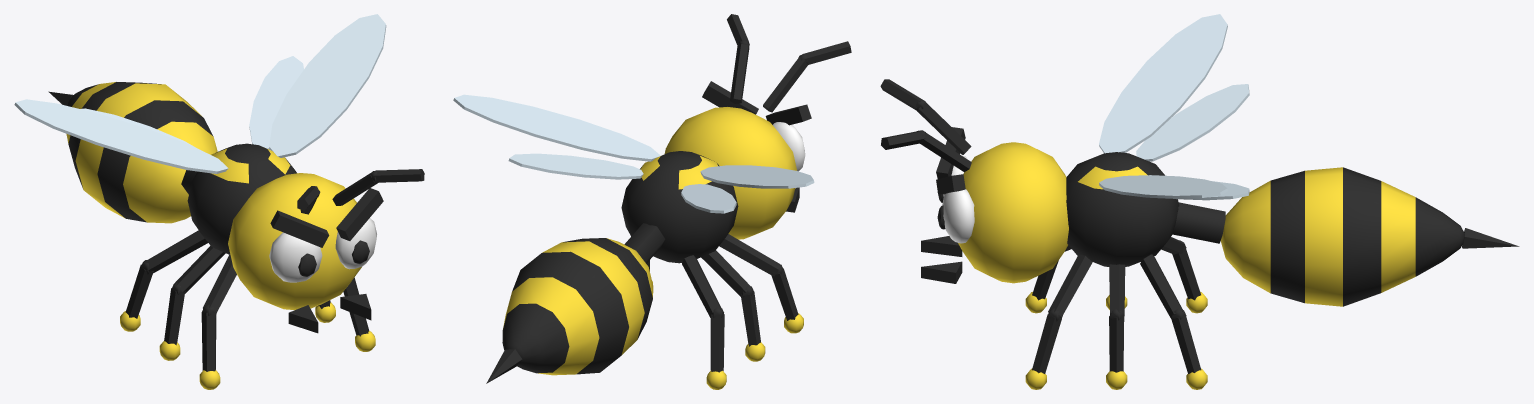
The model's file is wasp.fbx.
3 views of the same model, side by side, from view 1: azimuth 30°, elevation 25°; view 2: azimuth 150°, elevation 25°; view 3: azimuth 270°, elevation 25° (orthographic). The views are drawn at different scales.
Visible parts, largest first — view 1: Body, WingL, WingR; view 2: Body, WingL, WingR; view 3: Body, WingR, WingL.
Part boxes in pixels (x1,y1,x2,y2): Body: [48, 82, 424, 389]; WingL: [249, 14, 386, 157]; WingR: [14, 99, 228, 173]; Body: [486, 14, 851, 389]; WingL: [453, 94, 660, 179]; WingR: [681, 165, 814, 213]; Body: [880, 79, 1519, 389]; WingR: [1099, 14, 1249, 161]; WingL: [1099, 175, 1249, 200].
Size of the model in its own units: 0.0412 by 0.0265 by 0.0621.
Materials: 1 (1 with a texture image).
